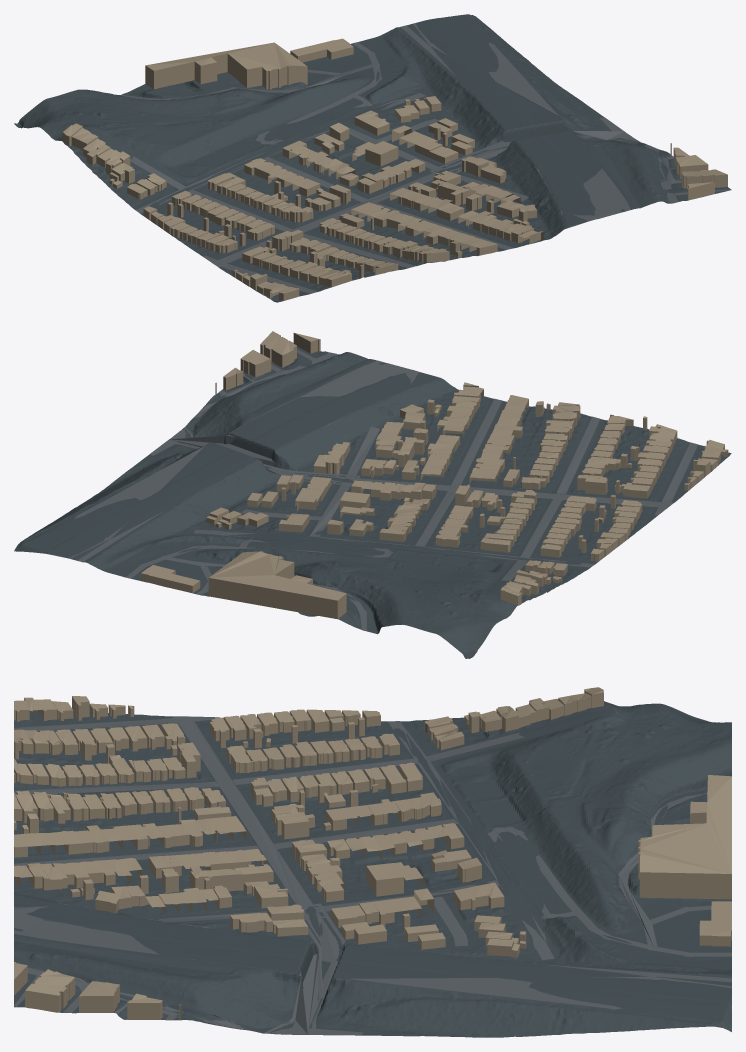
Rendered from epsg26910-1440-10869.lod0.glb.
The picture shows the model from 3 angles, top to bottom: view 1: azimuth 30°, elevation 25°; view 2: azimuth 150°, elevation 25°; view 3: azimuth 270°, elevation 25°; orthographic projection. The views are drawn at different scales.
Parts seen in each view (by area): view 1: epsg26910-1440-10869-lod0; view 2: epsg26910-1440-10869-lod0; view 3: epsg26910-1440-10869-lod0.
Boxes of the visible parts, x1=… form: epsg26910-1440-10869-lod0: x1=14, y1=14, x2=731, y2=302; epsg26910-1440-10869-lod0: x1=14, y1=331, x2=731, y2=658; epsg26910-1440-10869-lod0: x1=14, y1=687, x2=731, y2=1037.
Size of the model in its own units: 384 by 30.74 by 384.
